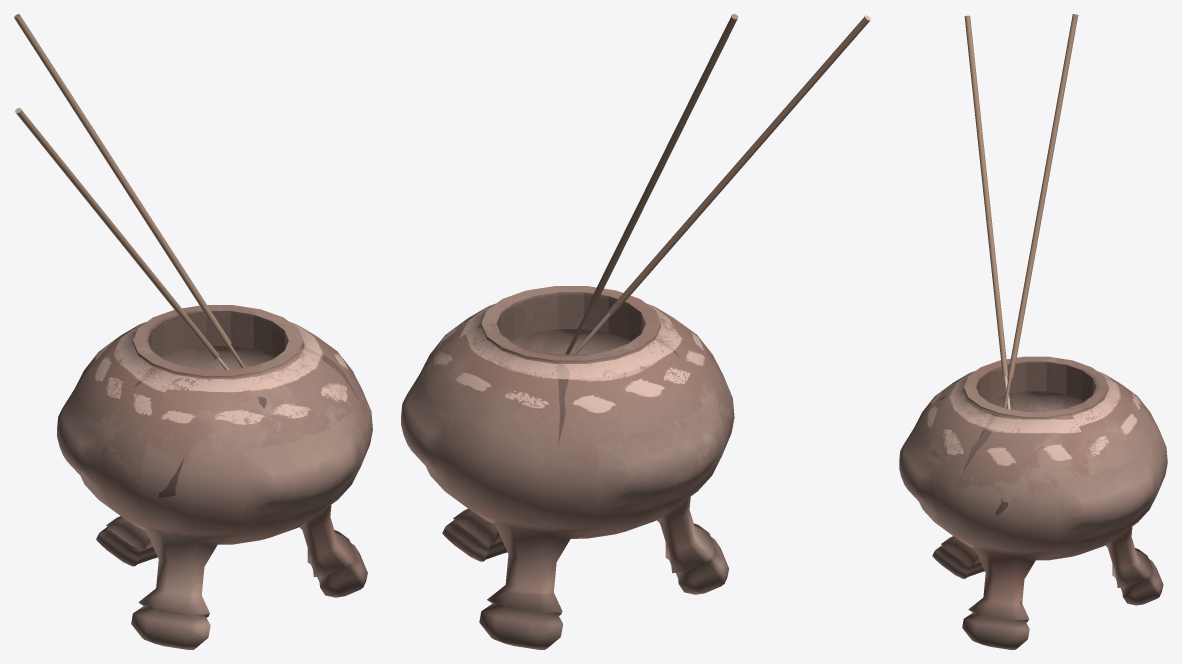
The model's file is Z3_Incense_Box_texturée.FBX.
The picture shows the model from 3 angles, left to right: view 1: azimuth 30°, elevation 25°; view 2: azimuth 150°, elevation 25°; view 3: azimuth 270°, elevation 25°; orthographic projection. The views are drawn at different scales.
Visible parts, largest first — view 1: boite_a_encens, Cylinder003, Cylinder002; view 2: boite_a_encens, Cylinder002, Cylinder003; view 3: boite_a_encens, Cylinder003, Cylinder002.
Boxes of the visible parts, x1,y1,x2,y2 form: boite_a_encens: (57,305,372,649); Cylinder003: (14,14,245,367); Cylinder002: (15,108,229,369); boite_a_encens: (401,286,734,649); Cylinder002: (572,15,870,354); Cylinder003: (565,14,738,354); boite_a_encens: (899,356,1167,649); Cylinder003: (1003,14,1078,408); Cylinder002: (964,15,1010,409).
Bounding box in the file's own units: 125 × 195 × 91.25.
Materials: 3 (3 with a texture image).
